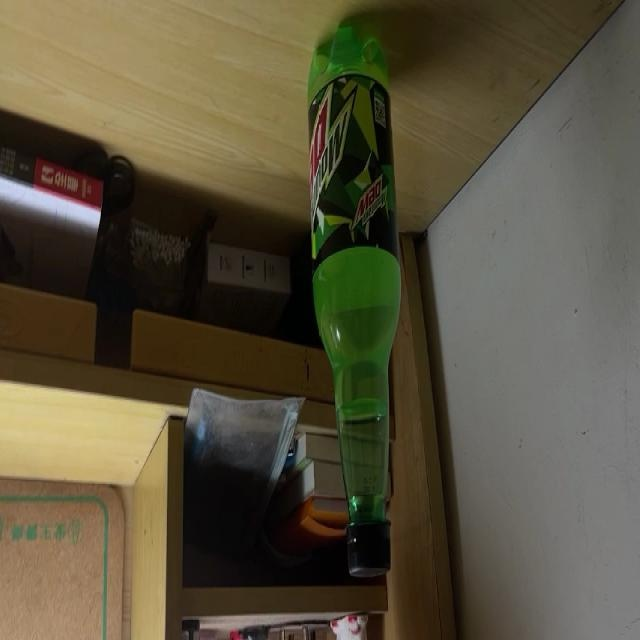Mountain-Dew: (307, 22, 402, 576)
